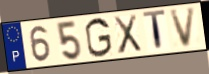5: (54, 19, 84, 62)
6: (28, 24, 53, 63)
G: (83, 17, 114, 59)
T: (142, 8, 167, 53)
V: (169, 6, 198, 50)
X: (111, 13, 143, 56)
